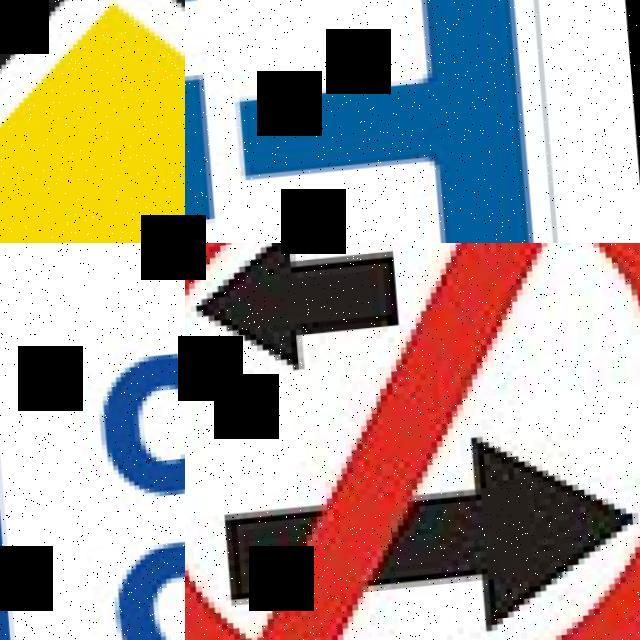57: (0, 0, 185, 243)
69: (185, 0, 595, 243)
81: (0, 243, 185, 640)
One-way traffic: (185, 243, 640, 640)
